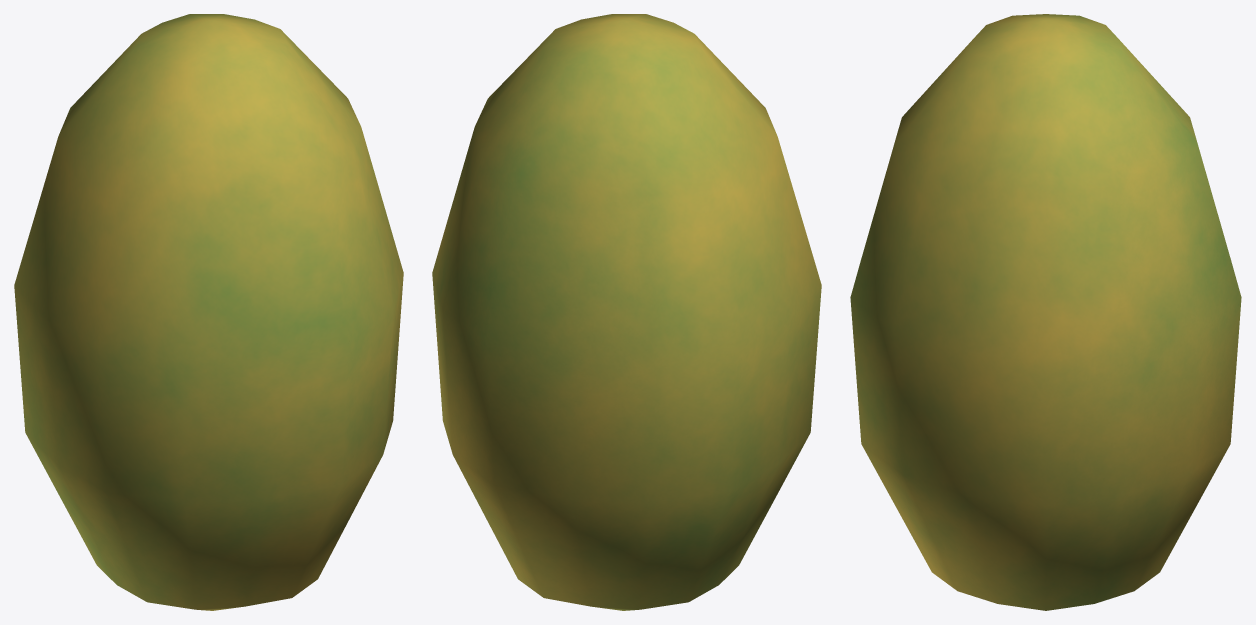
The model's file is papaya.glb.
3 views of the same model, side by side, from view 1: azimuth 30°, elevation 25°; view 2: azimuth 150°, elevation 25°; view 3: azimuth 270°, elevation 25° (orthographic).
Visible parts, largest first — view 1: papaya.002; view 2: papaya.002; view 3: papaya.002.
Boxes of the visible parts, <box> form: papaya.002: <box>14,14,403,610</box>; papaya.002: <box>432,14,821,610</box>; papaya.002: <box>850,14,1241,610</box>.
Size of the model in its own units: 0.144 by 0.24 by 0.1442.
Materials: 1 (1 with a texture image).
